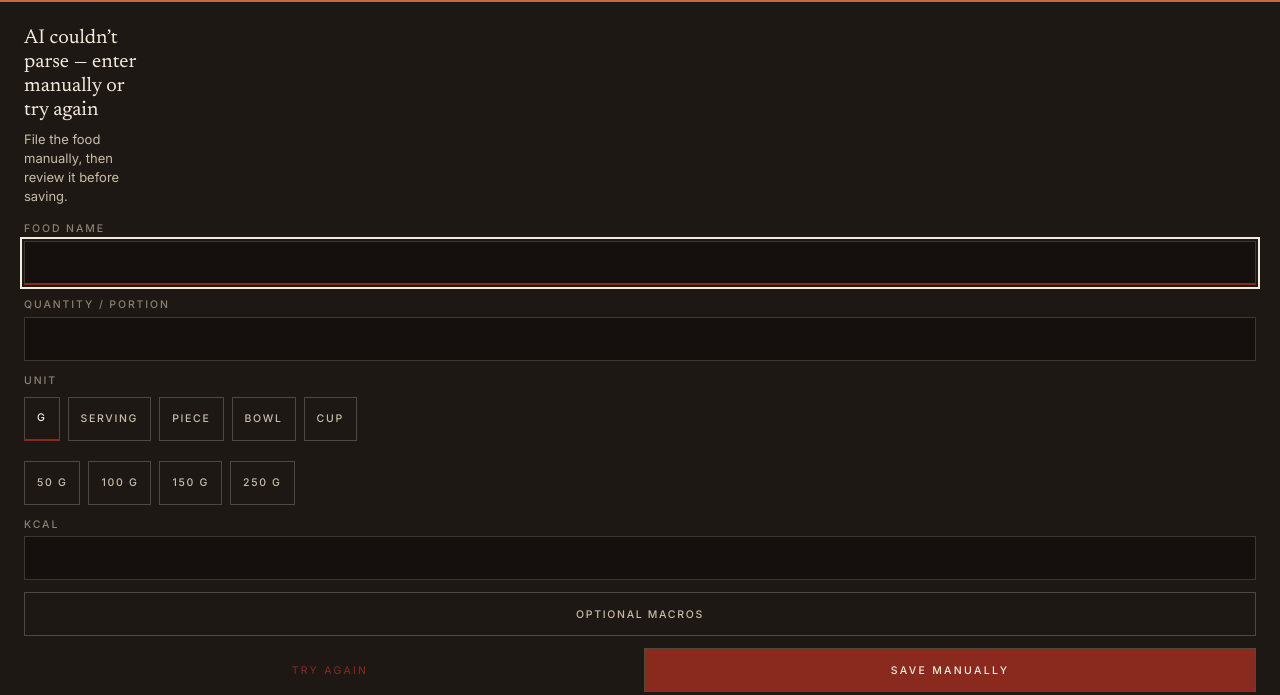
<ManualEntryFallback /> › invalid submit sets aria-invalid + aria-errormessage + shows inline error (compliance M4)
The width and height of the screenshot is (1280, 695).
Click the button with test id "manual-entry-fallback-submit": (950, 670) [644,648,1256,692]
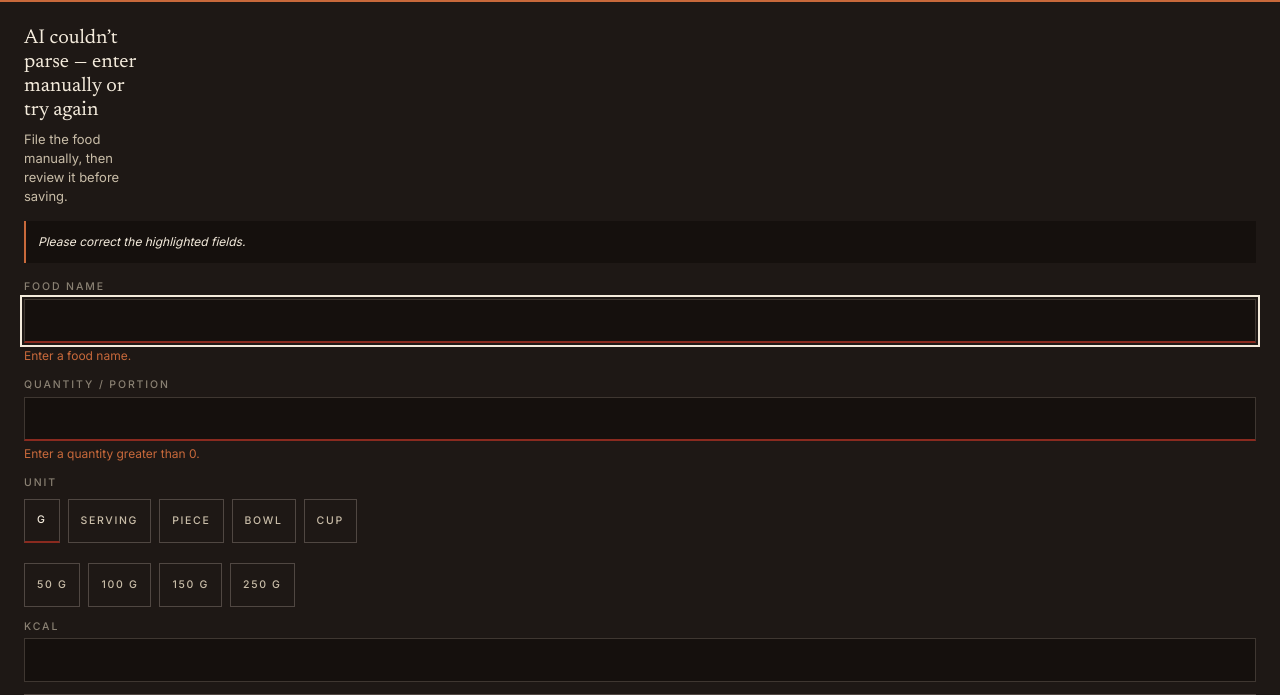
Now the message "Enter a food name." is shown, box [24,348,131,363]
Now the message "Please correct the highlighted fields." is shown, box [24,221,1256,263]
